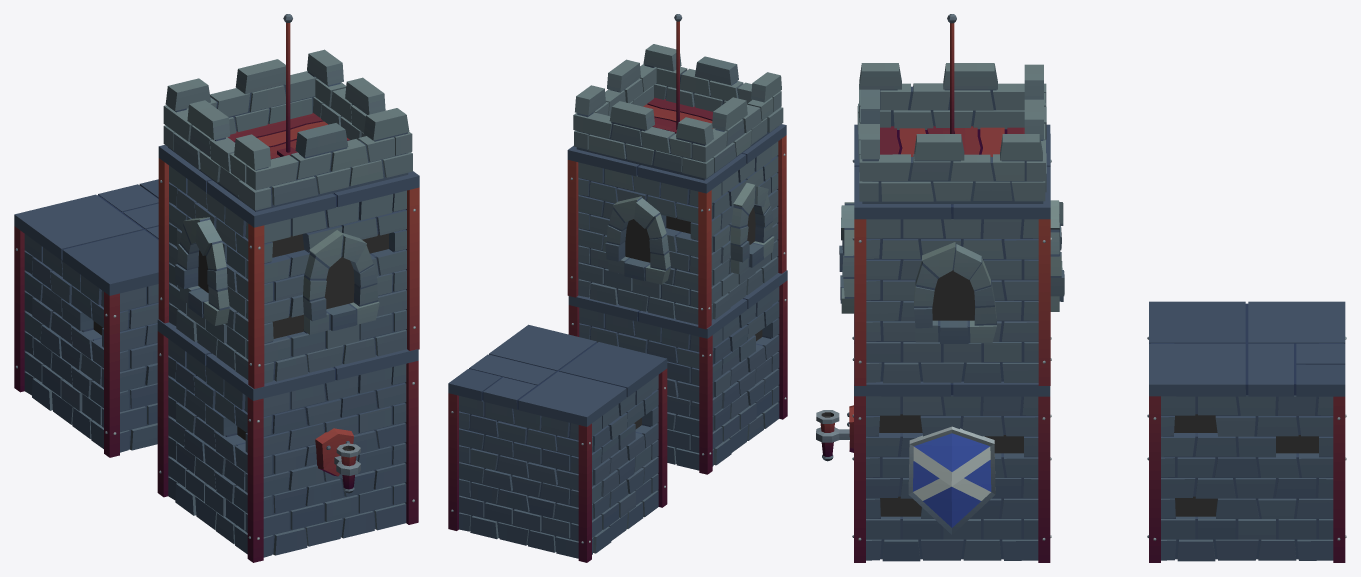
Rendered from fbx-castle.fbx.
The picture shows the model from 3 angles, left to right: view 1: azimuth 30°, elevation 25°; view 2: azimuth 150°, elevation 25°; view 3: azimuth 270°, elevation 25°; orthographic projection. The views are drawn at different scales.
Visible parts, largest first — view 1: mesh-walls-big, mesh-walls, mesh-window, mesh-tourch, mesh-flag-pole; view 2: mesh-walls-big, mesh-walls, mesh-window, mesh-flag-pole; view 3: mesh-walls-big, mesh-walls, mesh-window, mesh-shield, mesh-tourch.
Boxes of the visible parts, x1,y1,x2,y2 form: mesh-walls-big: (157,49,419,562); mesh-walls: (14,179,158,457); mesh-window: (175,217,379,334); mesh-tourch: (315,428,360,493); mesh-flag-pole: (277,14,297,156); mesh-walls-big: (567,44,787,474); mesh-walls: (448,324,667,562); mesh-window: (605,183,774,284); mesh-flag-pole: (669,14,682,133); mesh-walls-big: (852,63,1051,562); mesh-walls: (1147,301,1346,562); mesh-window: (839,200,1064,343); mesh-shield: (908,426,995,534); mesh-tourch: (816,405,853,461).
Bounding box in the file's own units: 460 × 1143 × 1081.
